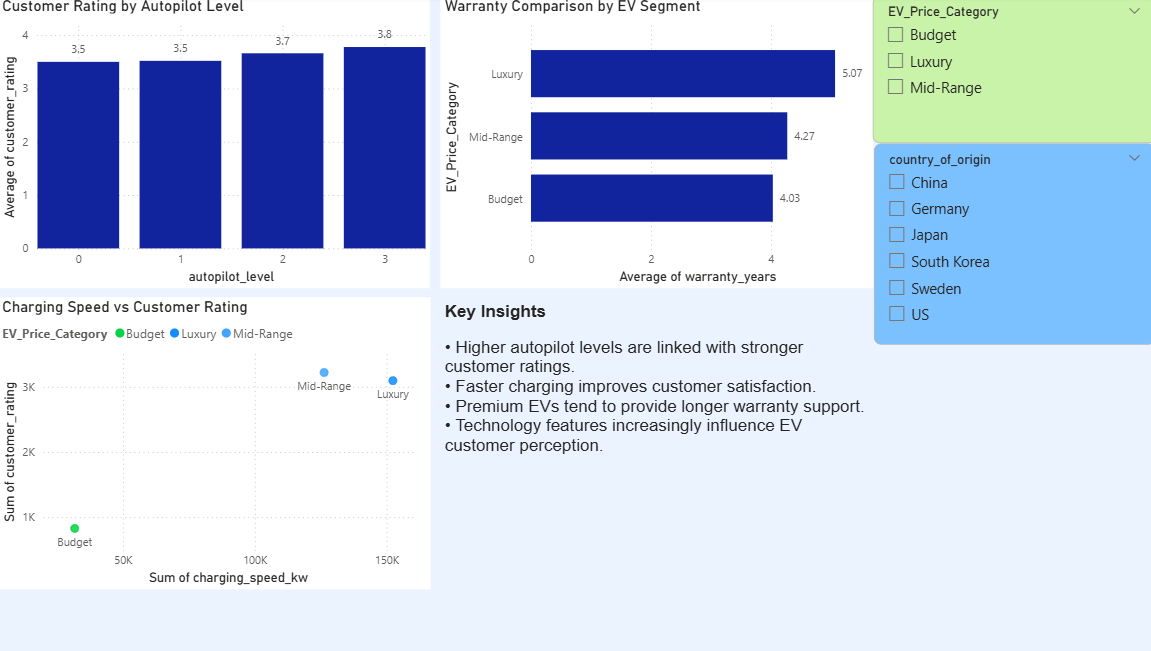

The page's visual inventory and layout, read from the dashboard file:
{"tool":"powerbi","page":{"name":"Customer & Technology Insights","canvas":[1280,720],"ordinal":2},"visuals":[{"type":"clusteredColumnChart","title":"Customer Rating by Autopilot Level","fields":{"Category":["process_data.autopilot_level"],"Y":["Avg(process_data.customer_rating)"]},"box":[9.6,0,474.8,321.1],"z":0},{"type":"scatterChart","title":"Charging Speed vs Customer Rating","fields":{"X":["Sum(process_data.charging_speed_kw)"],"Y":["Sum(process_data.customer_rating)"],"Series":["process_data.EV_Price_Category"]},"box":[10,331,475,321],"z":1000},{"type":"clusteredBarChart","title":"Warranty Comparison by EV Segment","fields":{"Category":["process_data.EV_Price_Category"],"Y":["Avg(process_data.warranty_years)"]},"box":[495,0,475,321],"z":2000},{"type":"textbox","box":[495,331,475,321],"z":3000},{"type":"slicer","fields":{"Values":["process_data.EV_Price_Category"]},"box":[970.2,0,310.1,161.9],"z":4000},{"type":"slicer","fields":{"Values":["process_data.country_of_origin"]},"box":[971.5,161.9,308.7,220.9],"z":5000}]}

Visuals, with their boxes in screenshot pixels (x1, y1, x2, y2), scaled from the page's 1280x720 canvas onto the 1151x651 screenshot:
"Customer Rating by Autopilot Level" clusteredColumnChart: rect(9, 0, 436, 290)
"Charging Speed vs Customer Rating" scatterChart: rect(9, 299, 436, 590)
"Warranty Comparison by EV Segment" clusteredBarChart: rect(445, 0, 872, 290)
textbox: rect(445, 299, 872, 590)
slicer - process_data.EV_Price_Category: rect(872, 0, 1150, 146)
slicer - process_data.country_of_origin: rect(874, 146, 1150, 346)
